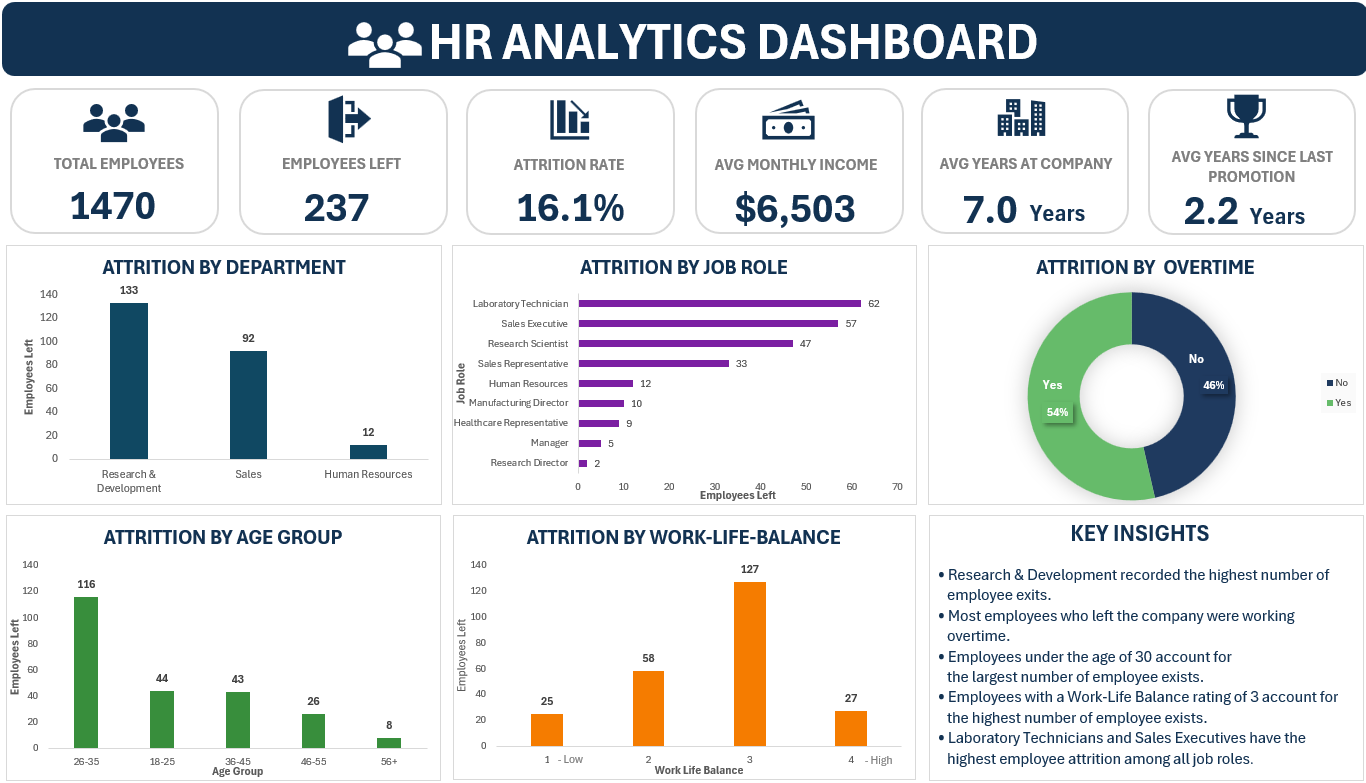

This screenshot's page, from the dashboard's own definition file:
{"tool":"powerbi","page":{"name":"HR Executive Overview","canvas":[1280,720],"ordinal":0},"visuals":[{"type":"cardVisual","fields":{"Data":["HR_Analytics.Total Employees"]},"box":[0,96,224,112],"z":0},{"type":"cardVisual","fields":{"Data":["HR_Analytics.Average Years At Company"]},"box":[1040,96,224,112],"z":1000},{"type":"clusteredBarChart","title":"Attrition by Department","fields":{"Category":["HR_Analytics.Department"],"Y":["HR_Analytics.Employees Left"]},"box":[16,208,304,304],"z":2000},{"type":"clusteredBarChart","title":"Attrition by Job Role","fields":{"Category":["HR_Analytics.Job Role"],"Y":["HR_Analytics.Employees Left"]},"box":[336,208,592,304],"z":3000},{"type":"clusteredColumnChart","title":"Attrition by Overtime","fields":{"Category":["HR_Analytics.Over Time"],"Y":["HR_Analytics.Employees Left"]},"box":[656,528,272,192],"z":4000},{"type":"clusteredColumnChart","title":"Attrition by Age Group","fields":{"Category":["HR_Analytics.Age Group"],"Y":["HR_Analytics.Employees Left"]},"box":[944,208,320,304],"z":5000},{"type":"clusteredColumnChart","title":"Attrition by Salary Group","fields":{"Category":["HR_Analytics.Income group"],"Y":["HR_Analytics.Employees Left"]},"box":[336,528,304,192],"z":6000},{"type":"clusteredColumnChart","title":"Attrition by Tenure Group","fields":{"Category":["HR_Analytics.Years at Company Group"],"Y":["HR_Analytics.Employees Left"]},"box":[16,528,304,192],"z":7000},{"type":"cardVisual","fields":{"Data":["HR_Analytics.Employees Left"]},"box":[208,96,224,112],"z":8000},{"type":"cardVisual","fields":{"Data":["HR_Analytics.Attrition Rate %"]},"box":[416,96,224,112],"z":9000},{"type":"cardVisual","fields":{"Data":["HR_Analytics.Average Income"]},"box":[624,96,224,112],"z":10000},{"type":"cardVisual","fields":{"Data":["HR_Analytics.Average Age"]},"box":[832,96,224,112],"z":11000},{"type":"slicer","fields":{"Values":["HR_Analytics.Gender"]},"box":[768,16,128,48],"z":12000},{"type":"shape","box":[0,0,1280,96],"z":13000},{"type":"textbox","box":[80,0,656,96],"z":14000},{"type":"slicer","fields":{"Values":["HR_Analytics.Department"]},"box":[688,16,128,64],"z":15000},{"type":"slicer","fields":{"Values":["HR_Analytics.Job Role"]},"box":[832,16,128,64],"z":16000},{"type":"slicer","fields":{"Values":["HR_Analytics.Over Time"]},"box":[1120,16,128,64],"z":17000},{"type":"slicer","fields":{"Values":["HR_Analytics.Gender"]},"box":[976,16,128,64],"z":18000},{"type":"textbox","box":[944,528,336,192],"z":19000},{"type":"textbox","box":[1184,160,48,32],"z":20000},{"type":"textbox","box":[992,160,48,32],"z":21000},{"type":"image","box":[16,112,47,112],"z":22000},{"type":"image","box":[231.6,112,42,112],"z":23000},{"type":"image","box":[442.2,112,42,112],"z":24000},{"type":"image","box":[652.8,112,42,112],"z":25000},{"type":"image","box":[863.4,112,40,112],"z":26000},{"type":"image","box":[1072,112,40,112],"z":27000},{"type":"image","box":[0,0,80,96],"z":28000}]}

Visuals, with their boxes in screenshot pixels (x1, y1, x2, y2), scaled from the page's 1280x720 canvas onto the 1366x783 screenshot:
cardVisual - HR_Analytics.Total Employees: (left=0, top=104, right=239, bottom=226)
cardVisual - HR_Analytics.Average Years At Company: (left=1110, top=104, right=1349, bottom=226)
"Attrition by Department" clusteredBarChart: (left=17, top=226, right=342, bottom=557)
"Attrition by Job Role" clusteredBarChart: (left=359, top=226, right=990, bottom=557)
"Attrition by Overtime" clusteredColumnChart: (left=700, top=574, right=990, bottom=782)
"Attrition by Age Group" clusteredColumnChart: (left=1007, top=226, right=1349, bottom=557)
"Attrition by Salary Group" clusteredColumnChart: (left=359, top=574, right=683, bottom=782)
"Attrition by Tenure Group" clusteredColumnChart: (left=17, top=574, right=342, bottom=782)
cardVisual - HR_Analytics.Employees Left: (left=222, top=104, right=461, bottom=226)
cardVisual - HR_Analytics.Attrition Rate %: (left=444, top=104, right=683, bottom=226)
cardVisual - HR_Analytics.Average Income: (left=666, top=104, right=905, bottom=226)
cardVisual - HR_Analytics.Average Age: (left=888, top=104, right=1127, bottom=226)
slicer - HR_Analytics.Gender: (left=820, top=17, right=956, bottom=70)
shape: (left=0, top=0, right=1365, bottom=104)
textbox: (left=85, top=0, right=785, bottom=104)
slicer - HR_Analytics.Department: (left=734, top=17, right=871, bottom=87)
slicer - HR_Analytics.Job Role: (left=888, top=17, right=1024, bottom=87)
slicer - HR_Analytics.Over Time: (left=1195, top=17, right=1332, bottom=87)
slicer - HR_Analytics.Gender: (left=1042, top=17, right=1178, bottom=87)
textbox: (left=1007, top=574, right=1365, bottom=782)
textbox: (left=1264, top=174, right=1315, bottom=209)
textbox: (left=1059, top=174, right=1110, bottom=209)
image: (left=17, top=122, right=67, bottom=244)
image: (left=247, top=122, right=292, bottom=244)
image: (left=472, top=122, right=517, bottom=244)
image: (left=697, top=122, right=741, bottom=244)
image: (left=921, top=122, right=964, bottom=244)
image: (left=1144, top=122, right=1187, bottom=244)
image: (left=0, top=0, right=85, bottom=104)
